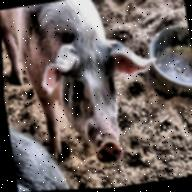boar: (0, 0, 171, 177), (8, 120, 71, 192)
